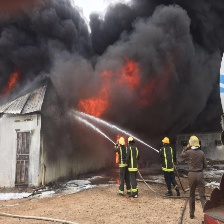fire: (79, 65, 142, 120)
smoke: (1, 2, 224, 131)
